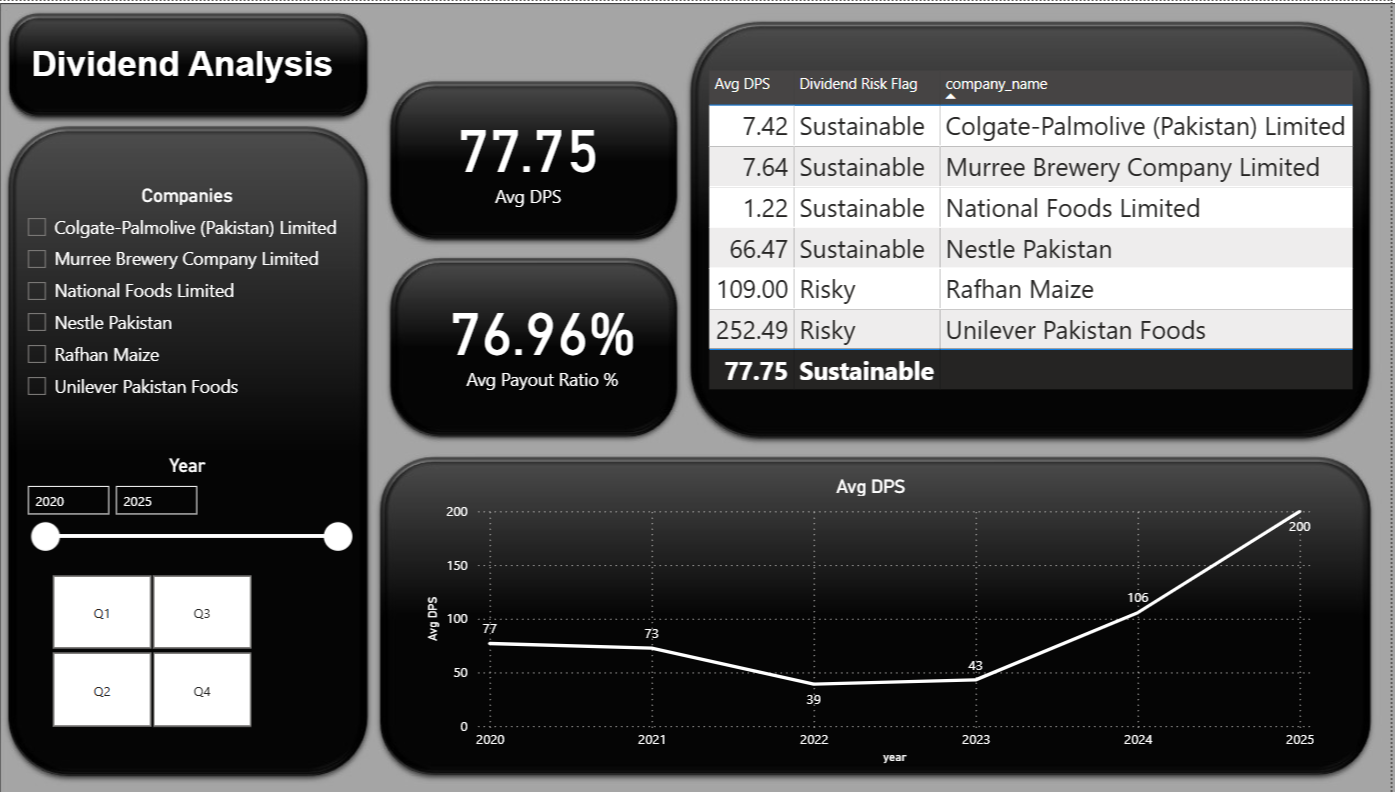

The page's visual inventory and layout, read from the dashboard file:
{"tool":"powerbi","page":{"name":"Dividend Analysis ","canvas":[1280,720],"ordinal":1},"visuals":[{"type":"lineChart","title":"Avg DPS","fields":{"Category":["DividendPayoutMart.year"],"Y":["DividendPayoutMart.Avg DPS"]},"box":[399.1,430.9,816.4,267.3],"z":0},{"type":"slicer","title":"Companies","fields":{"Values":["DividendPayoutMart.company_name"]},"box":[28.2,166.4,315.5,280],"z":1000},{"type":"tableEx","fields":{"Values":["DividendPayoutMart.Avg DPS","DividendPayoutMart.Dividend Risk Flag","DividendPayoutMart.company_name"]},"box":[654.5,58.2,600,311.8],"z":2000},{"type":"slicer","title":"Year","fields":{"Values":["DividendPayoutMart.year"]},"box":[28.2,411.8,315.5,124.5],"z":3000},{"type":"slicer","fields":{"Values":["DividendPayoutMart.quarter"]},"box":[38.2,515.5,230,150.9],"z":4000},{"type":"card","fields":{"Values":["DividendPayoutMart.Avg DPS"]},"box":[343.6,64.5,304.5,150],"z":4001},{"type":"card","fields":{"Values":["DividendPayoutMart.Avg Payout Ratio %"]},"box":[407.3,230.9,202.7,150],"z":4002},{"type":"textbox","box":[36.4,34.5,299.1,124.5],"z":4003}]}

Visuals, with their boxes in screenshot pixels (x1, y1, x2, y2), scaled from the page's 1280x720 canvas onto the 1395x792 screenshot:
"Avg DPS" lineChart: l=435, t=474, r=1325, b=768
"Companies" slicer: l=31, t=183, r=375, b=491
tableEx - DividendPayoutMart.Avg DPS x DividendPayoutMart.Dividend Risk Flag: l=713, t=64, r=1367, b=407
"Year" slicer: l=31, t=453, r=375, b=590
slicer - DividendPayoutMart.quarter: l=42, t=567, r=292, b=733
card - DividendPayoutMart.Avg DPS: l=374, t=71, r=706, b=236
card - DividendPayoutMart.Avg Payout Ratio %: l=444, t=254, r=665, b=419
textbox: l=40, t=38, r=366, b=175
